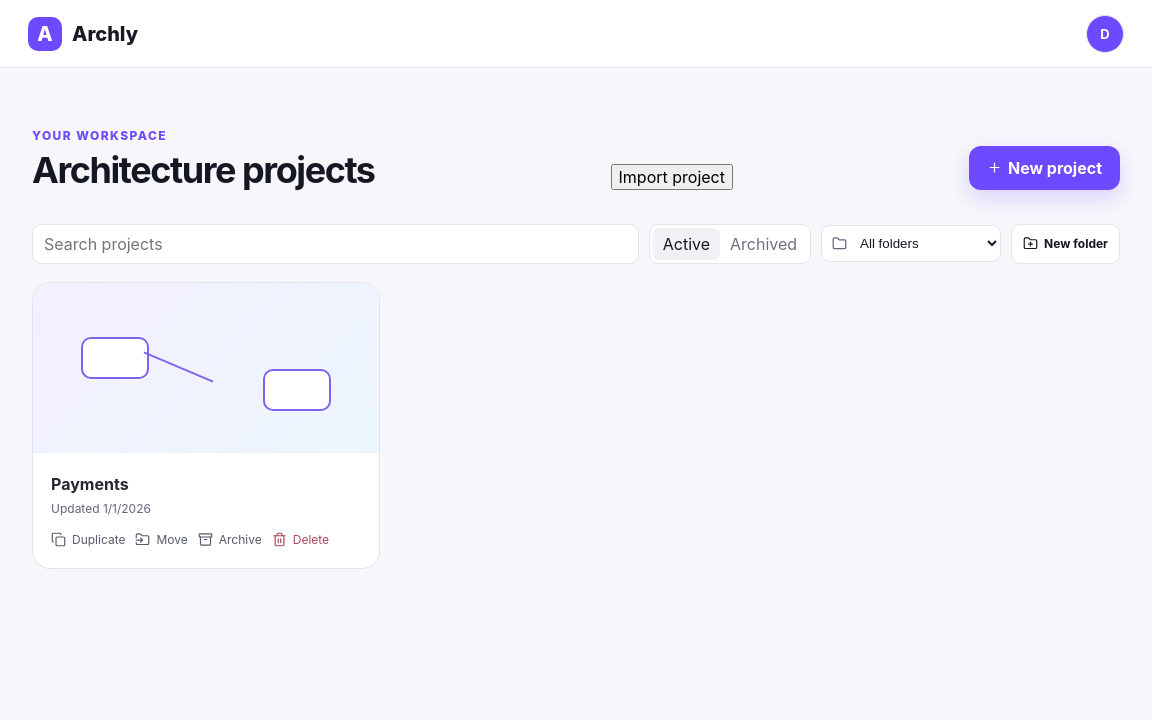
Test: Dashboard project actions › reloads the latest project summary after an organization conflict
The image size is (1152, 720).
Click the button "Archive" at x=230, y=539, box [198,529,262,550]
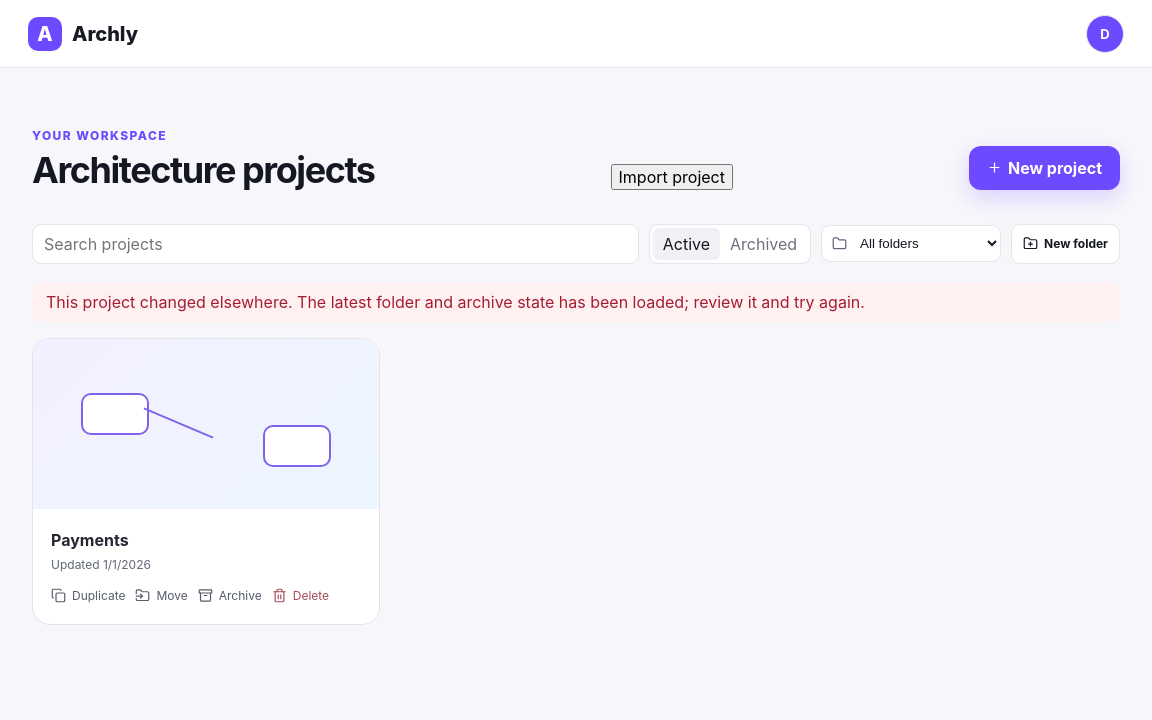
Now the message shows "changed elsewhere", box [46,292,865,312]
